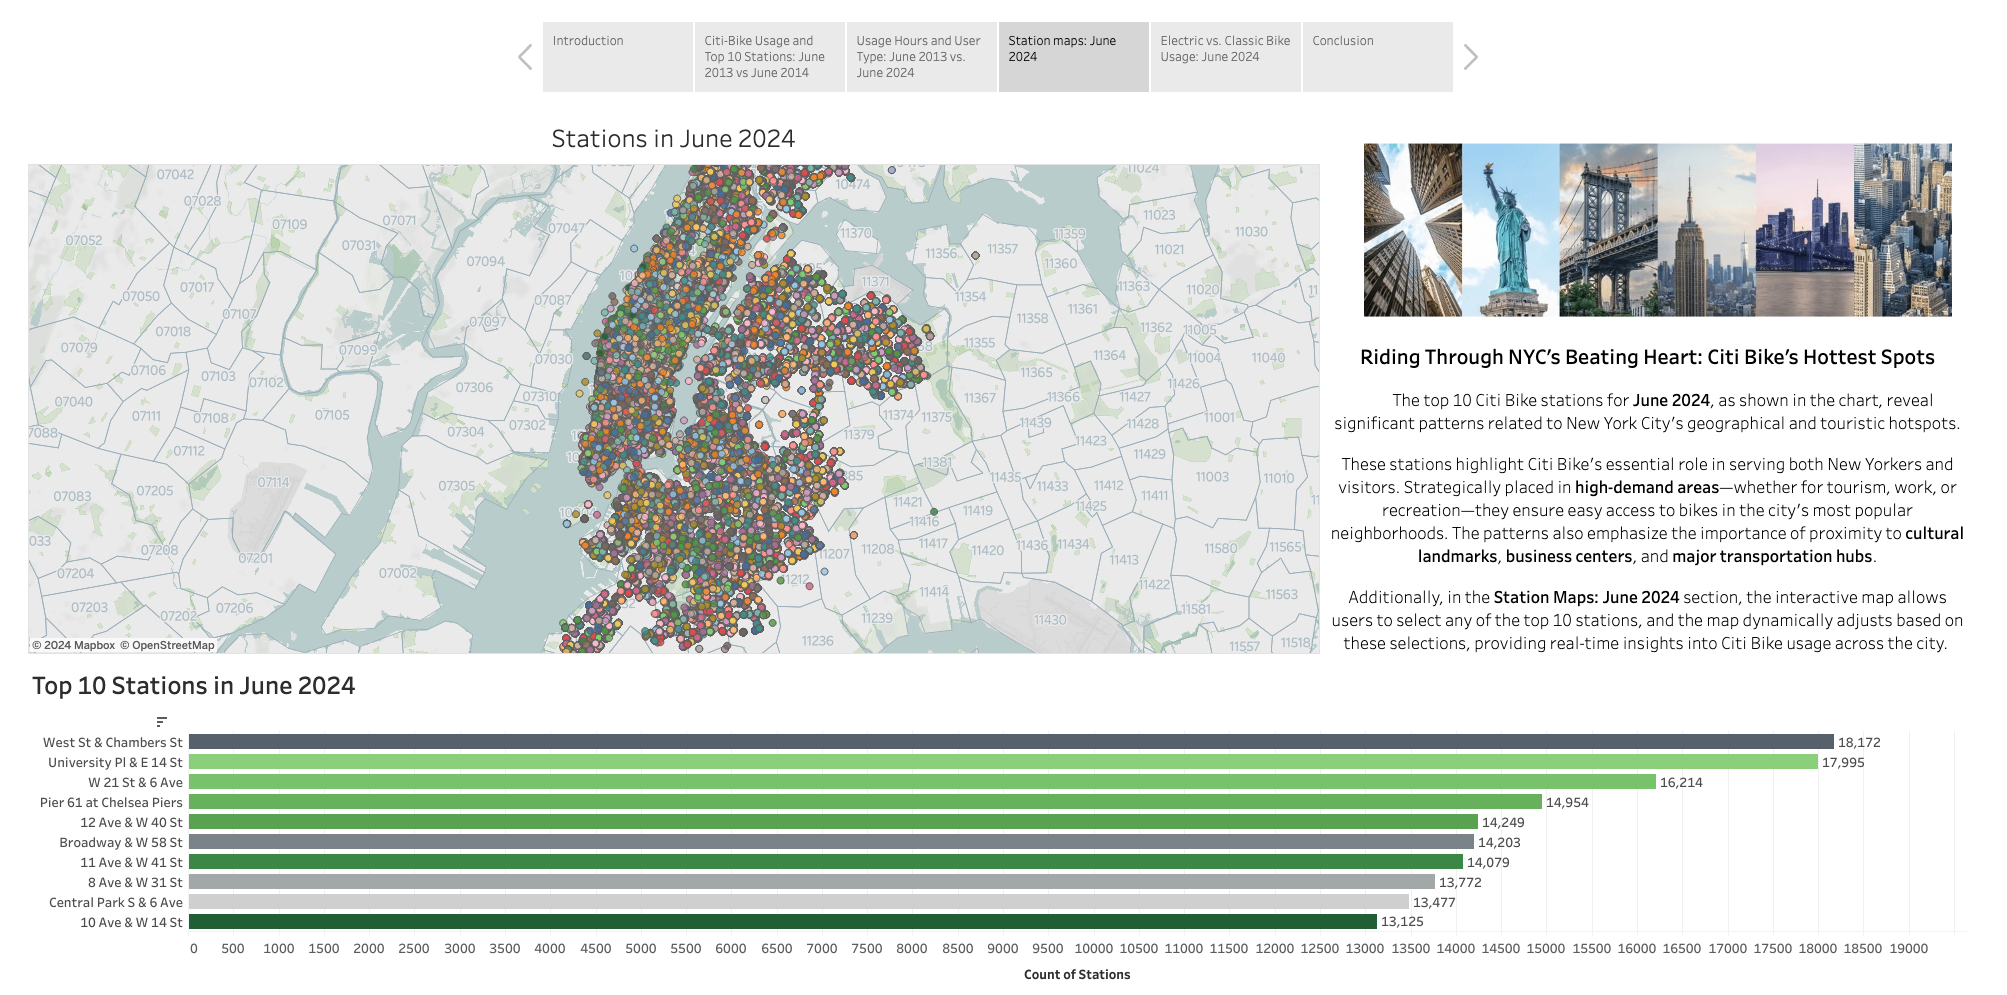

Layout of this report page (visuals, bound fields, positions):
{"tool":"tableau","page":{"name":"Stations: June 2024","canvas":[1000,1000],"units":"permille","ordinal":5},"visuals":[{"type":"worksheet","title":"Stations in June 2024","mark":"Multipolygon","rows":["start_lat"],"cols":["start_lng"],"box":[3.9,8,662.6,590]},{"type":"text","box":[666.5,8,329.6,590]},{"type":"image","param":"/Users/sanemini/Desktop/Tableau_Homework/Images/new-york-city-famous-places-260n","box":[686.9,42.2,299.5,188.9]},{"type":"worksheet","title":"Top 10 Stations in June 2024","mark":"Automatic","rows":["start_station_name"],"cols":["start_station_name"],"box":[3.9,598,992.2,394]}]}

Visuals, with their boxes on the dashboard's canvas, which has no fixed pixel size, in thousandths of its width and height (x1, y1, x2, y2). These are canvas units, not pixel positions in the 2007x995 screenshot, which may show the page scaled, cropped or inside an application window:
"Stations in June 2024" worksheet (Multipolygon marks): bbox(4, 8, 666, 598)
text: bbox(666, 8, 996, 598)
image: bbox(687, 42, 986, 231)
"Top 10 Stations in June 2024" worksheet: bbox(4, 598, 996, 992)
